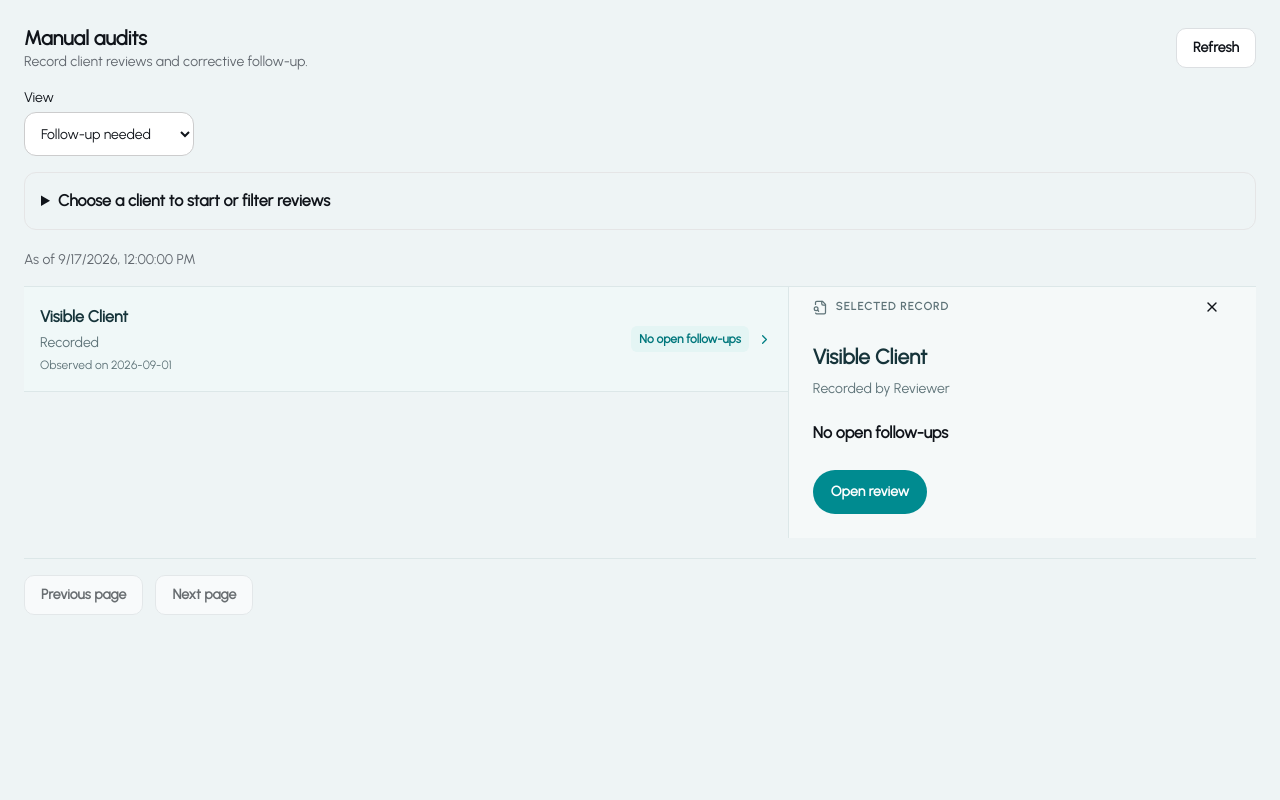
Test: ManualAuditsSection › confirmed access loss clears previously visible audit rows
Expected: the button with aria-label "Review Visible Client" is shown, x1=24 y1=287 x2=788 y2=392
What coordinates should you click on to do the following:
click the button "Refresh"
I would click on:
 (1216, 48)
Its box is x1=1176 y1=28 x2=1256 y2=68.
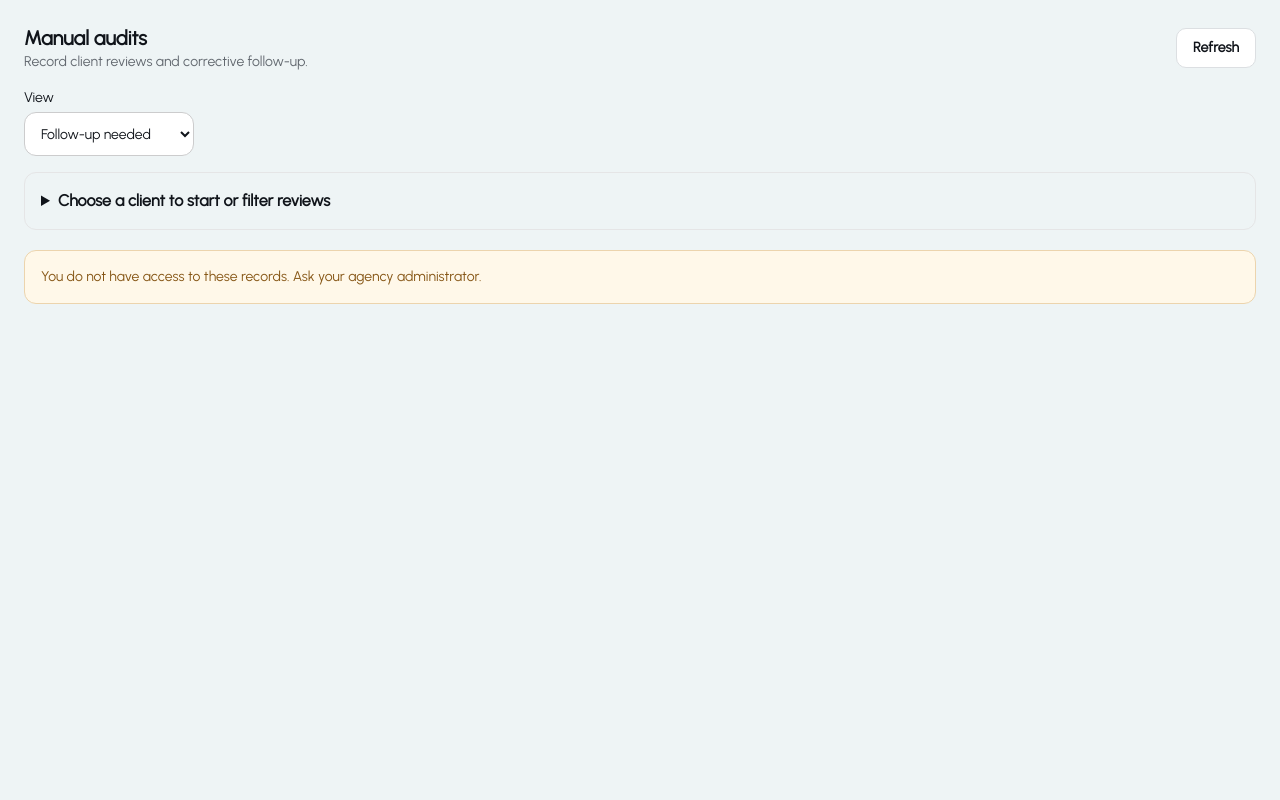
Result: the text "You do not have access to these records. Ask your agency administrator." is shown at x1=24 y1=250 x2=1256 y2=304
